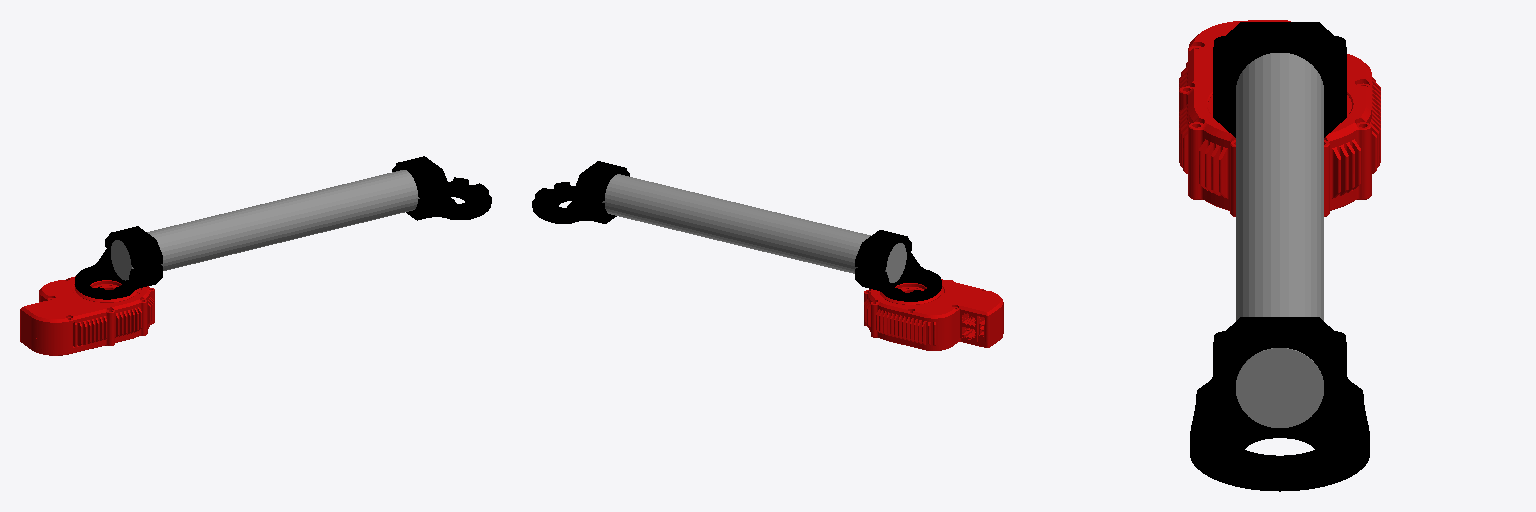
robot.urdf — 1_dof_arm:
<?xml version="1.0" ?>
<!-- =================================================================================== -->
<!-- |    This document was autogenerated by xacro from 1_dof_arm.xacro                | -->
<!-- |    EDITING THIS FILE BY HAND IS NOT RECOMMENDED                                 | -->
<!-- =================================================================================== -->
<robot name="1_dof_arm" xmlns:xacro="http://www.ros.org/wiki/xacro">
  <!-- *************************** XACRO MACROS *************************** -->
  <!-- ************************* ROBOT DEFINITION ************************* -->
  <!-- world link -->
  <link name="world"/>
  <joint name="world_joint" type="fixed">
    <origin rpy="0 0 0" xyz="0 0 0"/>
    <parent link="world"/>
    <child link="HEBI/joint1/INPUT_INTERFACE"/>
  </joint>
  <link name="HEBI/joint1/INPUT_INTERFACE">
    <visual>
      <origin rpy="0 0 0" xyz="0 0 0"/>
      <geometry>
        <mesh filename="package://hebiros_description/meshes/x5.stl" scale="0.001 0.001 0.001"/>
      </geometry>
      <material name="red">
        <color rgba=".82 0.06 0.06 1"/>
      </material>
    </visual>
    <collision>
      <origin rpy="0 0 0" xyz="0 0 0"/>
      <geometry>
        <mesh filename="package://hebiros_description/meshes/x5.stl" scale="0.001 0.001 0.001"/>
      </geometry>
    </collision>
    <inertial>
      <origin rpy="0 0 0" xyz="-0.0142 -0.0031 0.0165"/>
      <mass value="0.335"/>
      <inertia ixx="0.00015" ixy="0.0000341" ixz="0.0000118" iyy="0.000255" iyz="0.00000229" izz="0.000350"/>
    </inertial>
  </link>
  <joint name="HEBI/joint1/X5_4" type="continuous">
    <parent link="HEBI/joint1/INPUT_INTERFACE"/>
    <child link="joint1_end/INPUT_INTERFACE"/>
    <origin rpy="0 0 0" xyz="0 0 0.031"/>
    <axis xyz="0 0 1"/>
    <limit effort="7.0" velocity="32"/>
    <dynamics damping="0.1" friction="0.1"/>
  </joint>
  <gazebo reference="HEBI/joint1/INPUT_INTERFACE">
    <selfCollide>true</selfCollide>
    <gravity>true</gravity>
    <sensor name="HEBI/joint1/imu_sensor" type="imu">
      <always_on>true</always_on>
      <update_rate>100</update_rate>
      <visualize>true</visualize>
      <plugin filename="libgazebo_ros_imu_sensor.so" name="imu_plugin">
        <topicName>/hebiros_gazebo_plugin/imu/HEBI/joint1</topicName>
        <bodyName>HEBI/joint1/imu_link</bodyName>
        <updateRateHZ>10.0</updateRateHZ>
        <gaussianNoise>0.0</gaussianNoise>
        <xyzOffset>0.025 0 0.003</xyzOffset>
        <rpyOffset>0 0 0</rpyOffset>
        <frameName>HEBI/joint1/imu_link</frameName>
      </plugin>
      <pose>0 0 0 0 0 0</pose>
    </sensor>
    <material>Gazebo/BlueGlow</material>
  </gazebo>
  <link name="joint1_end/INPUT_INTERFACE">
    <visual>
      <origin rpy="0 0 0" xyz="0 0 0"/>
      <geometry>
        <mesh filename="package://hebiros_description/meshes/A-2038-02.stl"/>
      </geometry>
      <material name="black">
        <color rgba="0 0 0 1"/>
      </material>
    </visual>
    <visual>
      <origin rpy="0 1.57075 0" xyz="0.15 0 0.02"/>
      <geometry>
        <cylinder length="0.2746" radius=".016"/>
      </geometry>
      <material name="silver">
        <color rgba="0.6 0.6 0.6 1"/>
      </material>
    </visual>
    <visual>
      <origin rpy="-3.14159265359 0 0" xyz="0.3 -2.44929359829e-18 0.0"/>
      <geometry>
        <mesh filename="package://hebiros_description/meshes/A-2039-02.stl"/>
      </geometry>
      <material name="black">
        <color rgba="0 0 0 1"/>
      </material>
    </visual>
    <collision>
      <origin rpy="0 0 0" xyz="0 0 0"/>
      <geometry>
        <mesh filename="package://hebiros_description/meshes/A-2038-02.stl"/>
      </geometry>
    </collision>
    <collision>
      <origin rpy="0 1.57075 0" xyz="0.15 0 0.02"/>
      <geometry>
        <cylinder length="0.2746" radius=".016"/>
      </geometry>
    </collision>
    <collision>
      <origin rpy="-3.14159265359 0 0" xyz="0.3 -2.44929359829e-18 0.0"/>
      <geometry>
        <mesh filename="package://hebiros_description/meshes/A-2039-02.stl"/>
      </geometry>
    </collision>
    <!-- Approximate inertia as thin rod about x axis -->
    <inertial>
      <origin rpy="0 0 0" xyz="0.15 0 0.02"/>
      <mass value="0.392"/>
      <inertia ixx="0.0" ixy="0.0" ixz="0.0" iyy="0.00294" iyz="0.0" izz="0.00294"/>
    </inertial>
  </link>
  <joint name="joint1_end/OUTPUT_JOINT" type="fixed">
    <parent link="joint1_end/INPUT_INTERFACE"/>
    <child link="end_effector/INPUT_INTERFACE"/>
    <origin rpy="3.14159265359 0 0" xyz="0.3 -2.44929359829e-18 0.0"/>
  </joint>
  <gazebo reference="joint1_end/INPUT_INTERFACE">
    <selfCollide>true</selfCollide>
    <material>Gazebo/FlatBlack</material>
  </gazebo>
  <!-- end link -->
  <link name="end_effector/INPUT_INTERFACE">
  </link>
  <gazebo>
    <plugin filename="libhebiros_gazebo_plugin.so" name="hebiros_gazebo_plugin">
    </plugin>
  </gazebo>
</robot>

--- Render facts (derived) ---
3 views of the same robot in one strip: view 1: azimuth 30°, elevation 25°; view 2: azimuth 150°, elevation 25°; view 3: azimuth 270°, elevation 25° (orthographic).
Model 1_dof_arm with 4 links and 3 joints (1 continuous, 2 fixed), rooted at world, posed all joints at 0.
Links seen in each view (by area): view 1: joint1_end/INPUT_INTERFACE, HEBI/joint1/INPUT_INTERFACE; view 2: joint1_end/INPUT_INTERFACE, HEBI/joint1/INPUT_INTERFACE; view 3: joint1_end/INPUT_INTERFACE, HEBI/joint1/INPUT_INTERFACE.
Link boxes in pixels (x1,y1,x2,y2): joint1_end/INPUT_INTERFACE: (75, 156, 491, 299); HEBI/joint1/INPUT_INTERFACE: (20, 276, 154, 355); joint1_end/INPUT_INTERFACE: (532, 161, 941, 301); HEBI/joint1/INPUT_INTERFACE: (864, 279, 1003, 350); joint1_end/INPUT_INTERFACE: (1190, 22, 1369, 491); HEBI/joint1/INPUT_INTERFACE: (1179, 20, 1380, 216).
Bounding box of the posed robot: 0.4056 × 0.073 × 0.0685 m (x, y, z).
Meshes: 3 distinct files referenced, 3 mesh visuals loaded (3 binary STL).